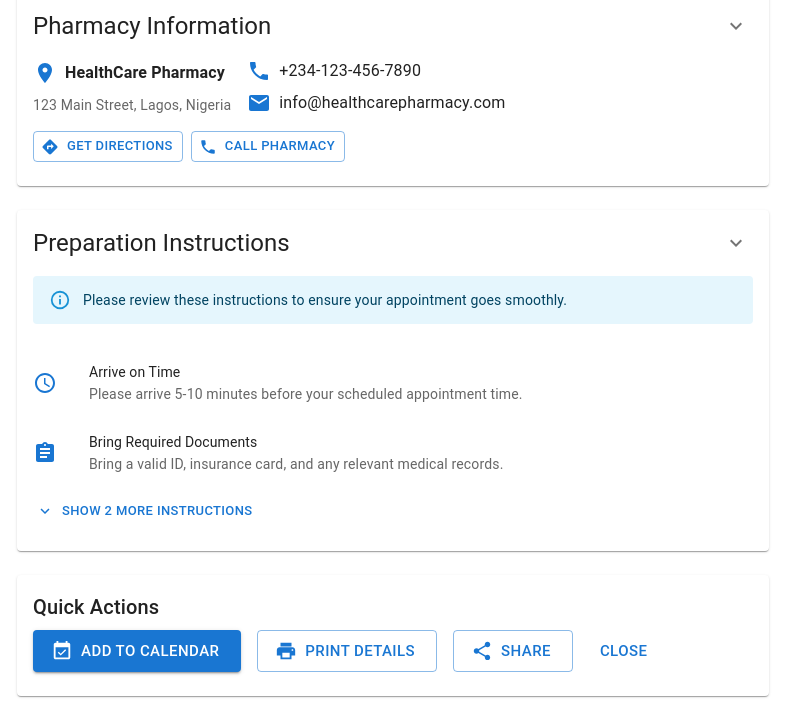
Test: AppointmentConfirmation › Rendering › displays preparation instructions
(page scrolled)
Expected: the heading "Preparation Instructions" is shown, x1=33 y1=227 x2=290 y2=259
Expected: the heading "Arrive on Time" is shown, x1=89 y1=364 x2=180 y2=380
# Need to expand to see MTM-specific instructions
Click the button "Show 2 more instructions". click: (145, 511)
box: x1=33 y1=496 x2=258 y2=527
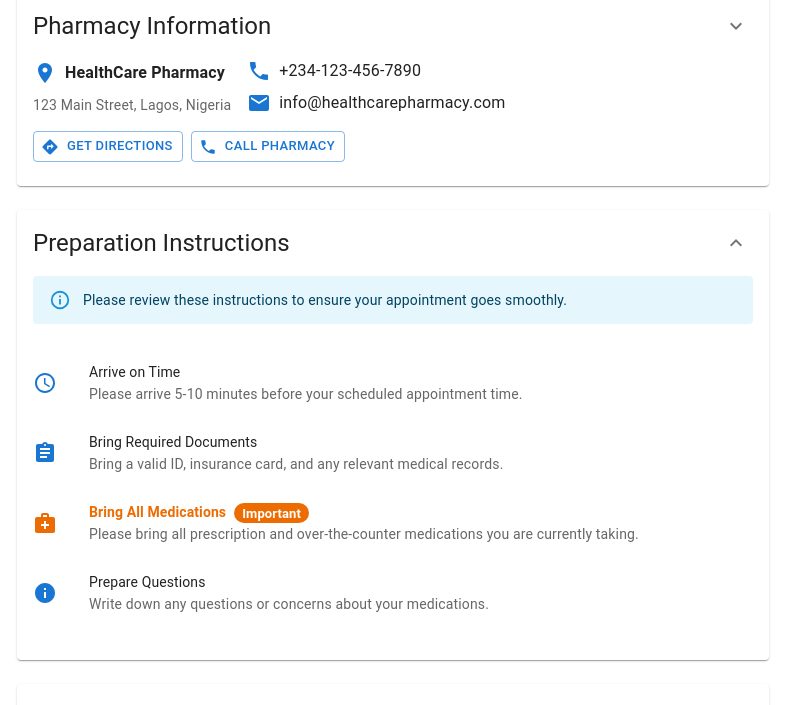
Expected: the heading "Bring All Medications Important" is shown, x1=89 y1=503 x2=309 y2=523
